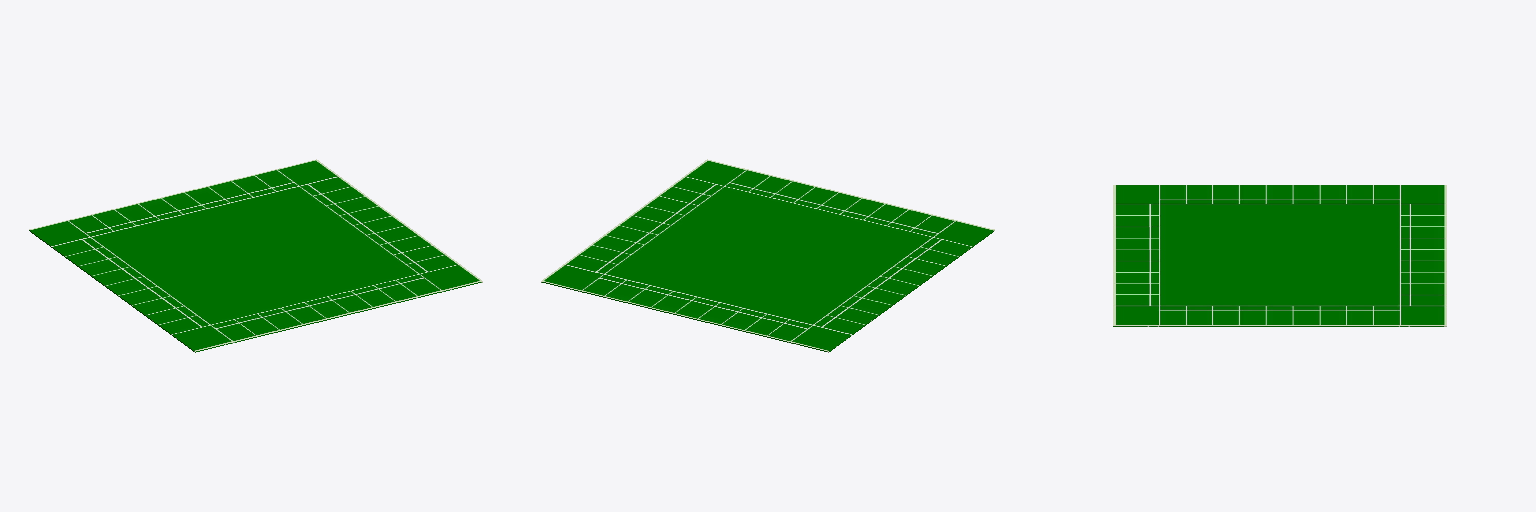
3 renders of one model, left to right at view 1: azimuth 30°, elevation 25°; view 2: azimuth 150°, elevation 25°; view 3: azimuth 270°, elevation 25°, orthographic.
Visible parts, largest first — view 1: Box001; view 2: Box001; view 3: Box001.
Part boxes in pixels (x1,y1,x2,y2): Box001: (29, 159, 482, 352); Box001: (541, 159, 994, 352); Box001: (1113, 185, 1446, 326).
Size of the model in its own units: 30 by 0.1 by 30.
1 materials, 1 textured.